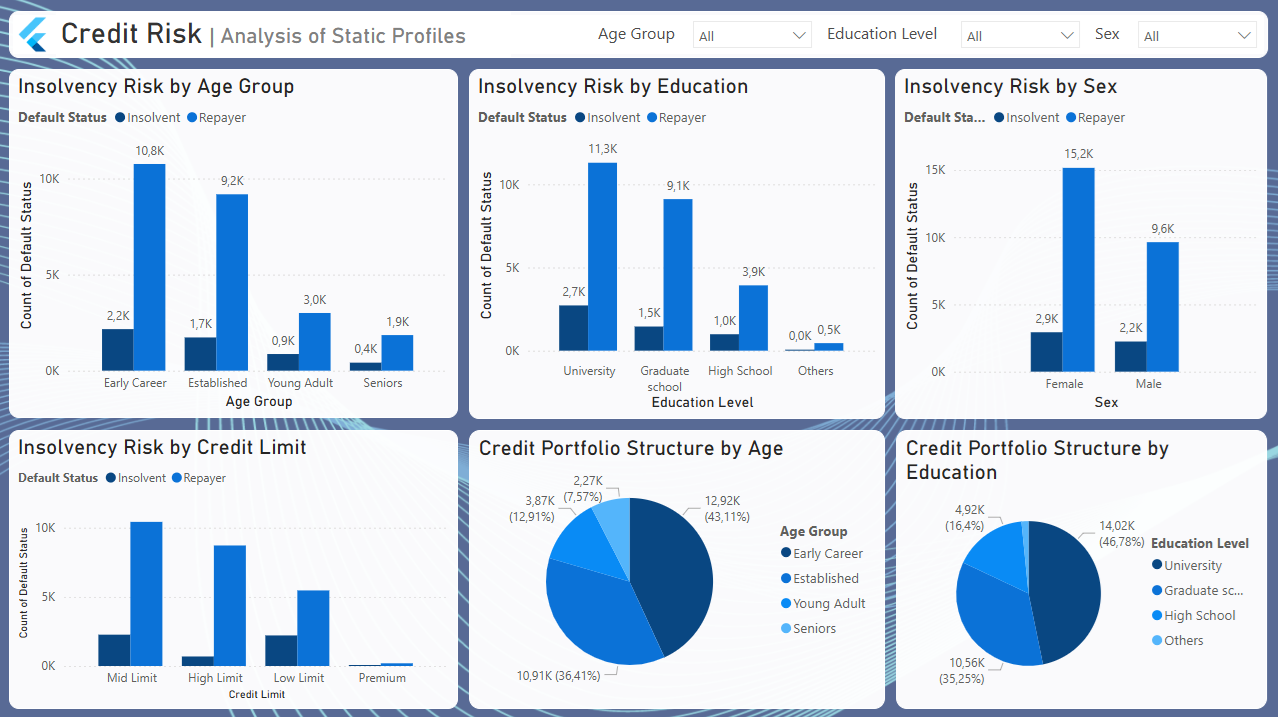

The page's visual inventory and layout, read from the dashboard file:
{"tool":"powerbi","page":{"name":"Page 1","canvas":[1280,720],"ordinal":0},"visuals":[{"type":"clusteredColumnChart","title":"Insolvency Risk by Age Group","fields":{"Category":["Banking.AGE_GROUP"],"Y":["CountNonNull(Banking.DEFAULT_STATUS)"],"Series":["Banking.STATUS_DEFAULT_TEXT"]},"box":[10.7,69.1,449.4,349.2],"z":0},{"type":"clusteredColumnChart","title":"Insolvency Risk by Sex","fields":{"Y":["CountNonNull(Banking.DEFAULT_STATUS)"],"Category":["Banking.SEX"],"Series":["Banking.STATUS_DEFAULT_TEXT"]},"box":[896.8,69.1,372.5,350.2],"z":1000},{"type":"clusteredColumnChart","title":"Insolvency Risk by Education","fields":{"Y":["CountNonNull(Banking.DEFAULT_STATUS)"],"Category":["Banking.EDUCATION"],"Series":["Banking.STATUS_DEFAULT_TEXT"]},"box":[470.8,69.1,416.3,350.2],"z":2000},{"type":"clusteredColumnChart","title":"Insolvency Risk by  Credit Limit","fields":{"Y":["CountNonNull(Banking.DEFAULT_STATUS)"],"Category":["Banking.LIMIT_BAL_GROUP"],"Series":["Banking.STATUS_DEFAULT_TEXT"]},"box":[10.7,429.9,449.4,279.1],"z":3000},{"type":"pieChart","title":"Credit Portfolio Structure by Age","fields":{"Y":["CountNonNull(Banking.AGE_GROUP)"],"Category":["Banking.AGE_GROUP"]},"box":[470.8,429.9,416.3,279.1],"z":4000},{"type":"pieChart","title":"Credit Portfolio Structure by Education","fields":{"Y":["CountNonNull(Banking.EDUCATION)"],"Category":["Banking.EDUCATION"]},"box":[897.8,429.9,371.6,279.1],"z":5000},{"type":"shape","box":[11,11,1259,47],"z":8000},{"type":"textbox","box":[58.4,10.7,454.2,47.7],"z":9000},{"type":"slicer","fields":{"Values":["Banking.AGE_GROUP"]},"box":[684.7,10.7,139.1,47.7],"z":10000},{"type":"textbox","box":[595.3,16.5,89.5,37],"z":11000},{"type":"textbox","box":[823.8,16.5,129.4,37],"z":12000},{"type":"slicer","fields":{"Values":["Banking.EDUCATION"]},"box":[953.2,10.7,139.1,47.7],"z":13000},{"type":"textbox","box":[1092.3,16.5,37.9,37],"z":14000},{"type":"slicer","fields":{"Values":["Banking.SEX"]},"box":[1130.2,10.7,139.1,47.7],"z":15000},{"type":"image","box":[10.7,9.7,47.7,48.6],"z":15001}]}

Visuals, with their boxes in screenshot pixels (x1, y1, x2, y2), scaled from the page's 1280x720 canvas onto the 1278x717 screenshot:
"Insolvency Risk by Age Group" clusteredColumnChart: (left=11, top=69, right=459, bottom=417)
"Insolvency Risk by Sex" clusteredColumnChart: (left=895, top=69, right=1267, bottom=418)
"Insolvency Risk by Education" clusteredColumnChart: (left=470, top=69, right=886, bottom=418)
"Insolvency Risk by  Credit Limit" clusteredColumnChart: (left=11, top=428, right=459, bottom=706)
"Credit Portfolio Structure by Age" pieChart: (left=470, top=428, right=886, bottom=706)
"Credit Portfolio Structure by Education" pieChart: (left=896, top=428, right=1267, bottom=706)
shape: (left=11, top=11, right=1268, bottom=58)
textbox: (left=58, top=11, right=512, bottom=58)
slicer - Banking.AGE_GROUP: (left=684, top=11, right=823, bottom=58)
textbox: (left=594, top=16, right=684, bottom=53)
textbox: (left=823, top=16, right=952, bottom=53)
slicer - Banking.EDUCATION: (left=952, top=11, right=1091, bottom=58)
textbox: (left=1091, top=16, right=1128, bottom=53)
slicer - Banking.SEX: (left=1128, top=11, right=1267, bottom=58)
image: (left=11, top=10, right=58, bottom=58)
